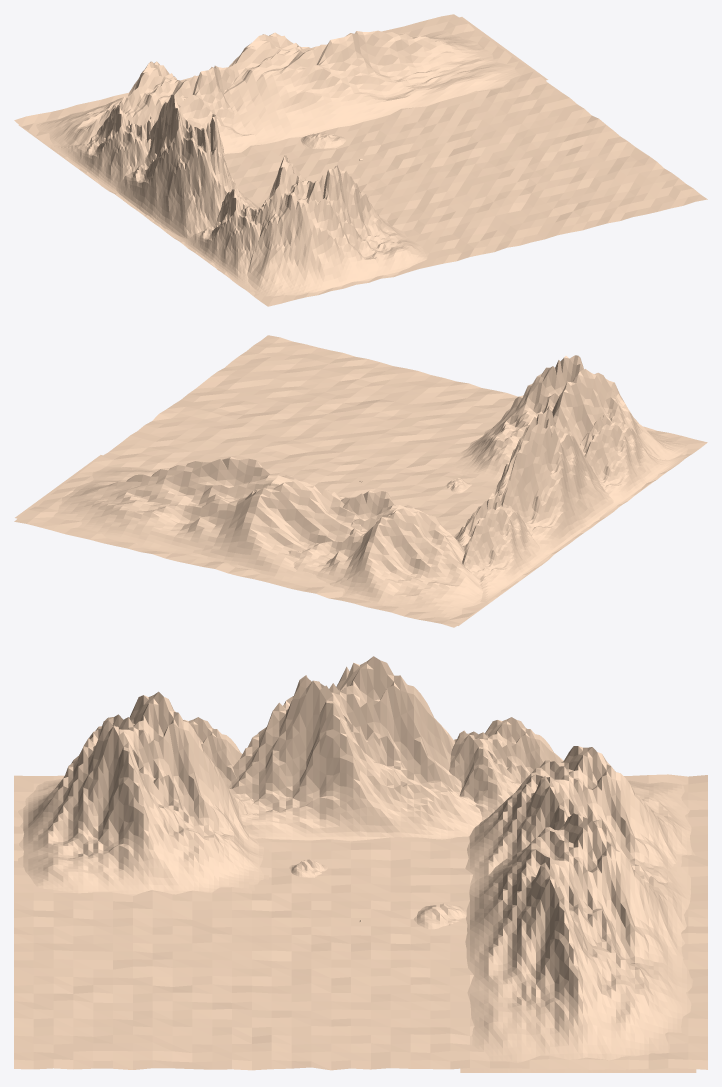
File: joceline_wüste.fbx
The picture shows the model from 3 angles, top to bottom: view 1: azimuth 30°, elevation 25°; view 2: azimuth 150°, elevation 25°; view 3: azimuth 270°, elevation 25°; orthographic projection. The views are drawn at different scales.
Visible parts, largest first — view 1: wüste, großer_berg_6, großer_berg, großer_berg_1, großer_berg_2, großer_berg_3, großer_berg_4, großer_berg_7; view 2: wüste, großer_berg_6, großer_berg_2, großer_berg_1, großer_berg, großer_berg_3, großer_berg_4; view 3: wüste, großer_berg_6, großer_berg, großer_berg_1, großer_berg_2, großer_berg_3, großer_berg_4, großer_berg_7.
Boxes of the visible parts, box(x1,y1,x2,y2) form: wüste: box(14, 14, 707, 306); großer_berg_6: box(223, 17, 547, 143); großer_berg: box(198, 155, 427, 296); großer_berg_1: box(86, 95, 259, 242); großer_berg_2: box(18, 61, 266, 187); großer_berg_3: box(49, 105, 155, 208); großer_berg_4: box(164, 189, 266, 292); großer_berg_7: box(301, 133, 346, 148); wüste: box(14, 335, 707, 627); großer_berg_6: box(15, 455, 365, 593); großer_berg_2: box(288, 490, 544, 625); großer_berg_1: box(454, 409, 621, 574); großer_berg: box(448, 355, 687, 494); großer_berg_3: box(455, 496, 572, 602); großer_berg_4: box(580, 412, 687, 518); wüste: box(14, 774, 707, 1070); großer_berg_6: box(460, 813, 696, 1072); großer_berg: box(18, 691, 268, 895); großer_berg_1: box(228, 656, 481, 841); großer_berg_2: box(465, 746, 695, 885); großer_berg_3: box(449, 717, 563, 821); großer_berg_4: box(183, 717, 254, 807); großer_berg_7: box(414, 903, 466, 929).
Size of the model in its own units: 100879 by 23328 by 100000.
